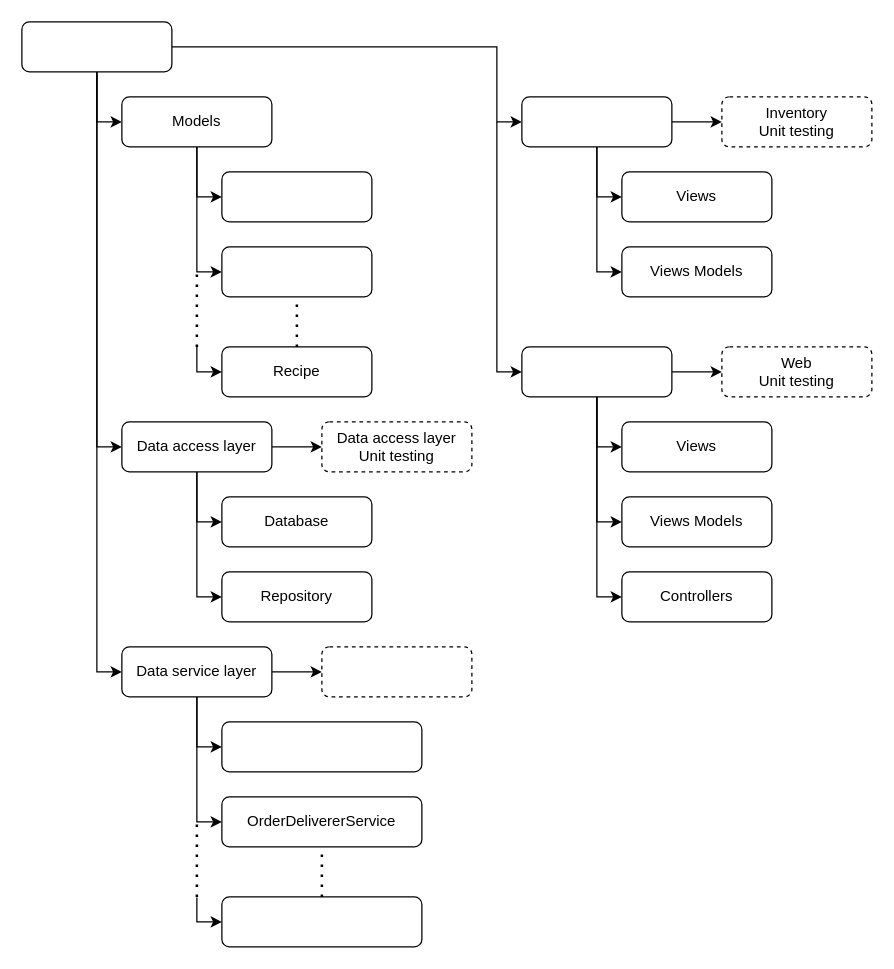
The diagram is 894 pixels wide and 969 high, and some of its shapes have lost their labels. The centre of each missing label's shape, as x and y in pixels:
"Customer" goes at pixel 296 196.
"CustomerOrderService" goes at pixel 321 746.
"Data service layer Unit testing" goes at pixel 396 671.
"Employee" goes at pixel 296 271.
"EmployeePaymentService" goes at pixel 321 921.
"Food desire" goes at pixel 96 46.
"Inventory" goes at pixel 596 121.
"Web" goes at pixel 596 371.
